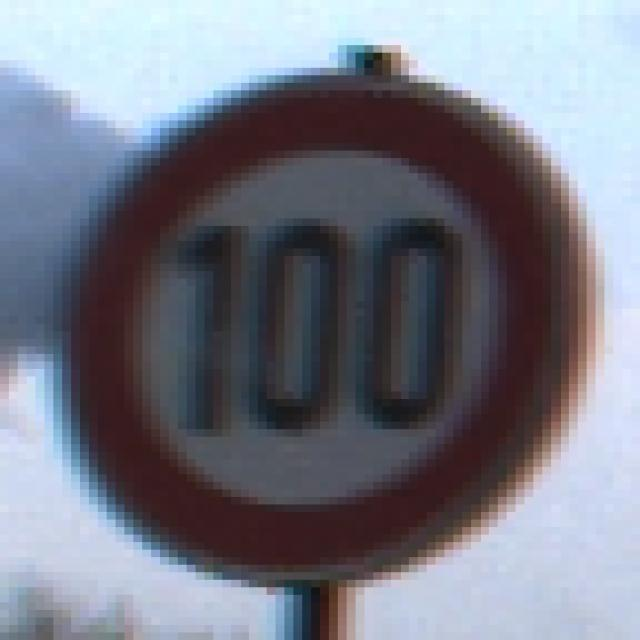speed limit 100: (71, 68, 574, 593)
